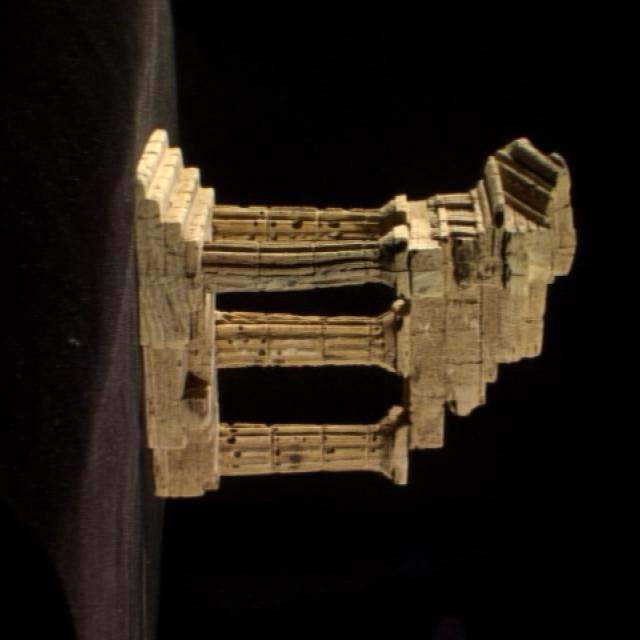Instance-Segmentation: (137, 129, 575, 496)
